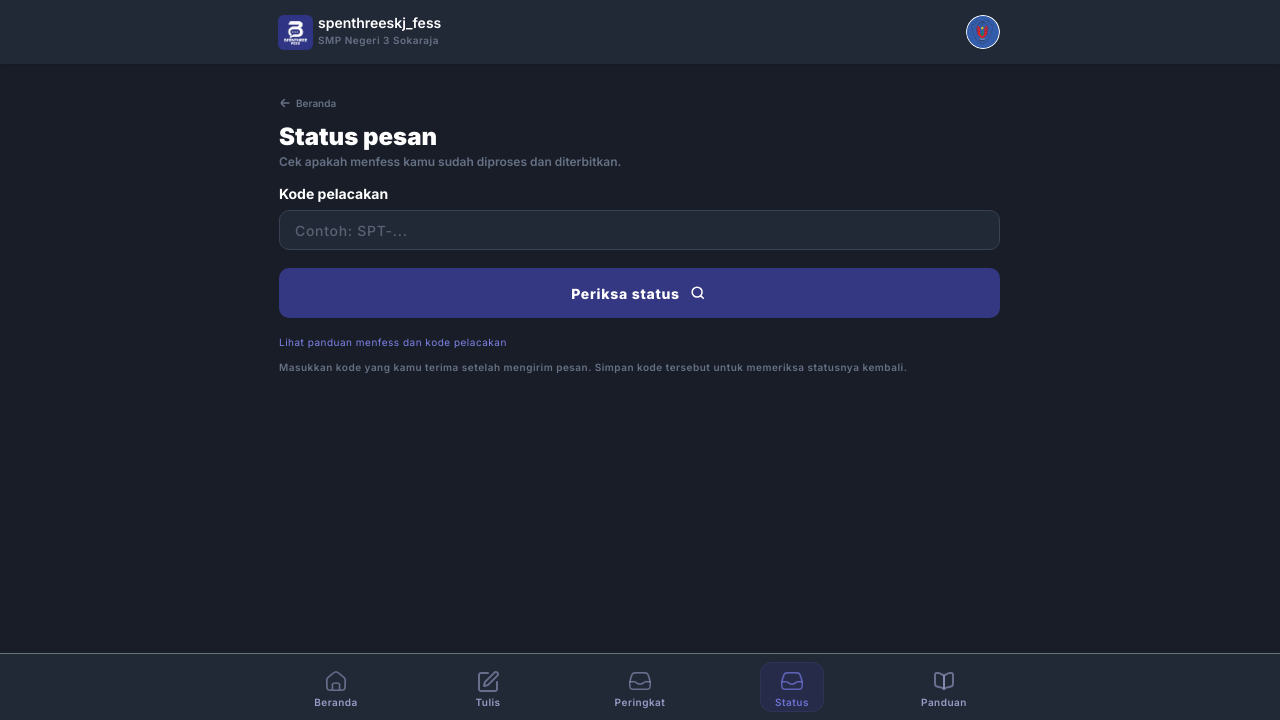
Test: preserved menfess integration › polls the submitted tracking code independently from response and input edits
Type "SPT-poll" into the field labelled "Kode pelacakan" at (640, 230), box [279,210,1000,250]
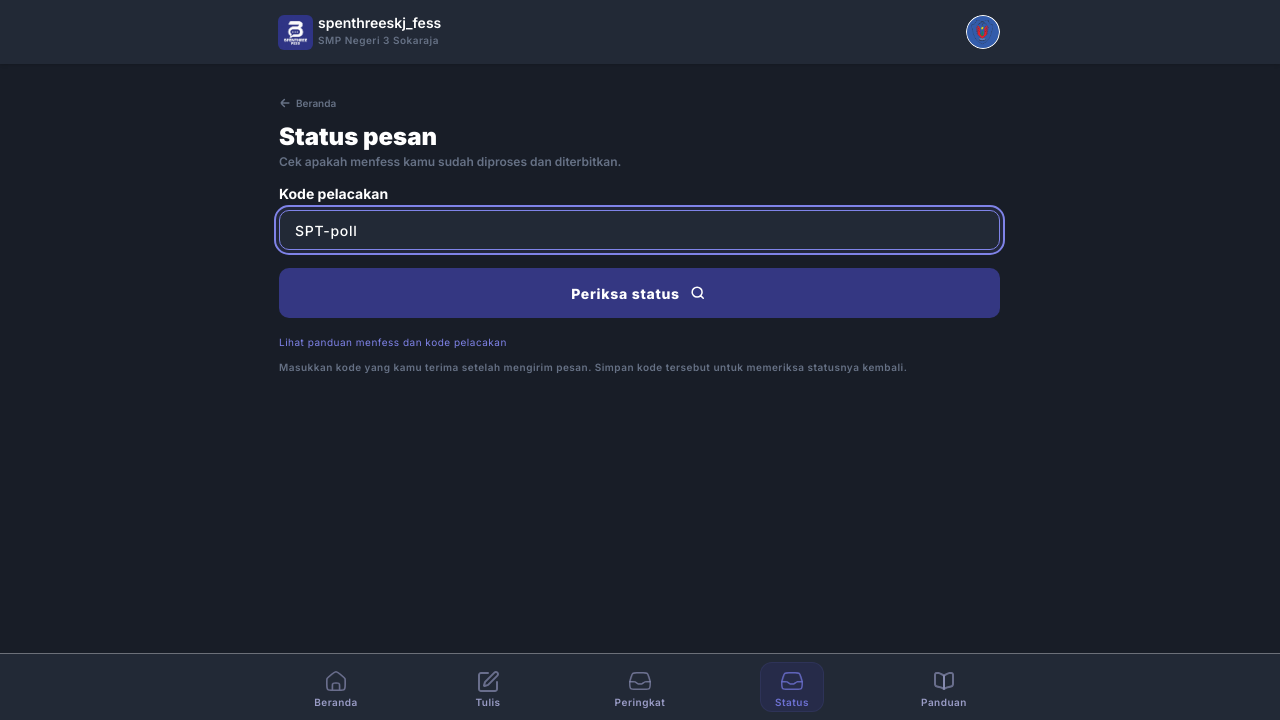
Click the button "Periksa status" at (640, 293), box [279,268,1000,318]
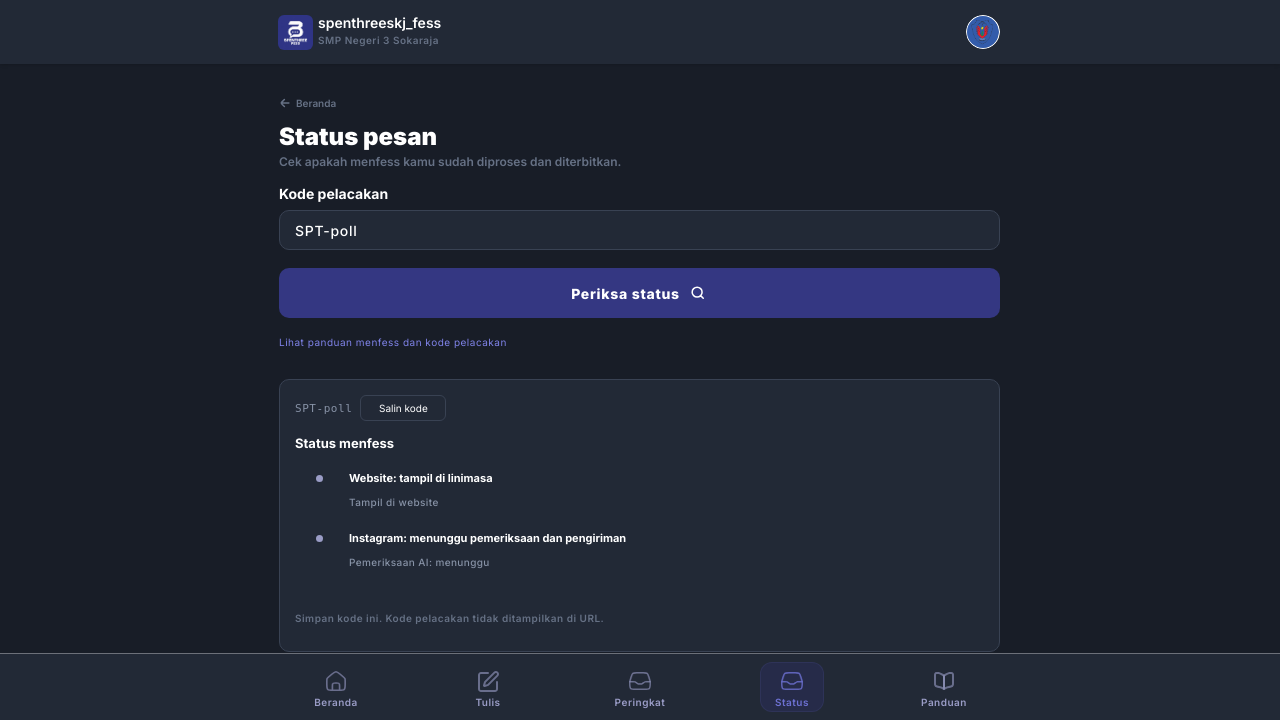
Expected: the heading "Website: tampil di linimasa" is shown, [349,471,492,485]
Expected: the heading "Instagram: menunggu pemeriksaan dan pengiriman" is shown, [349,531,626,545]
Replace the text in the field labelled "Kode pelacakan" with "SPT-not-submitted" at (640, 230), box [279,210,1000,250]
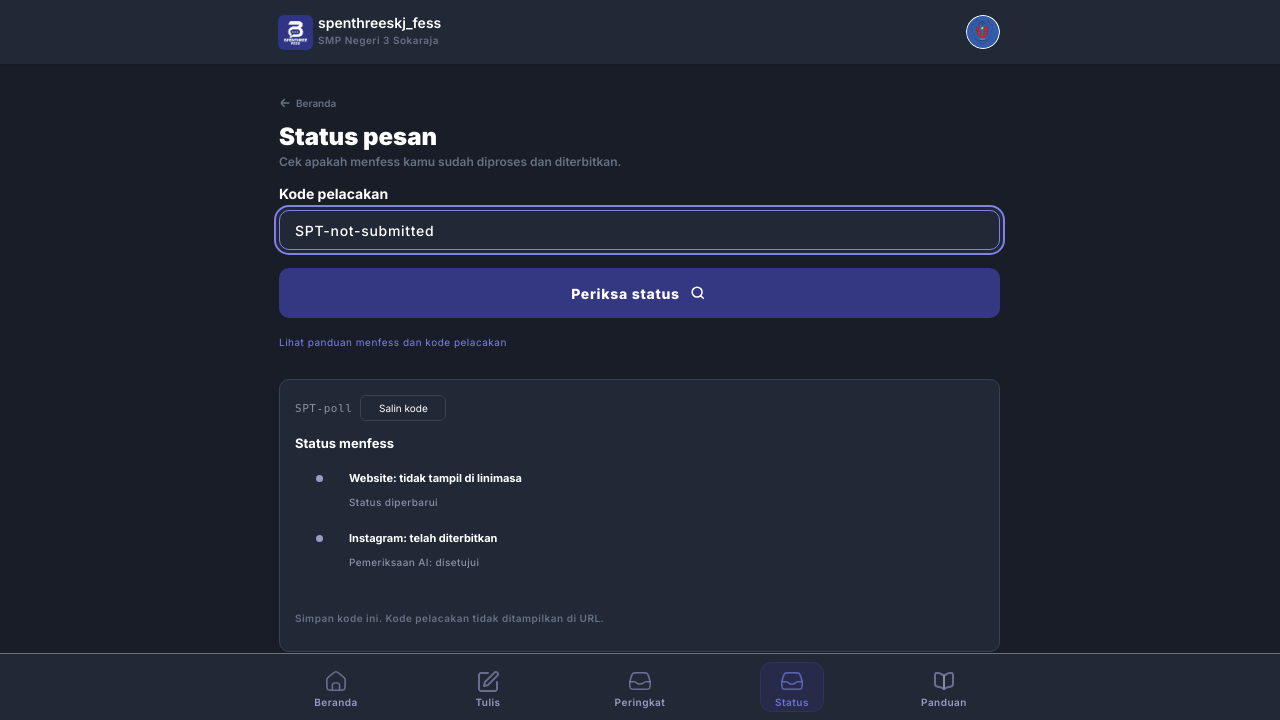
Expected: the text "SPT-poll" is shown, [295,402,352,415]
Expected: the heading "Website: tidak tampil di linimasa" is shown, [349,471,522,485]
